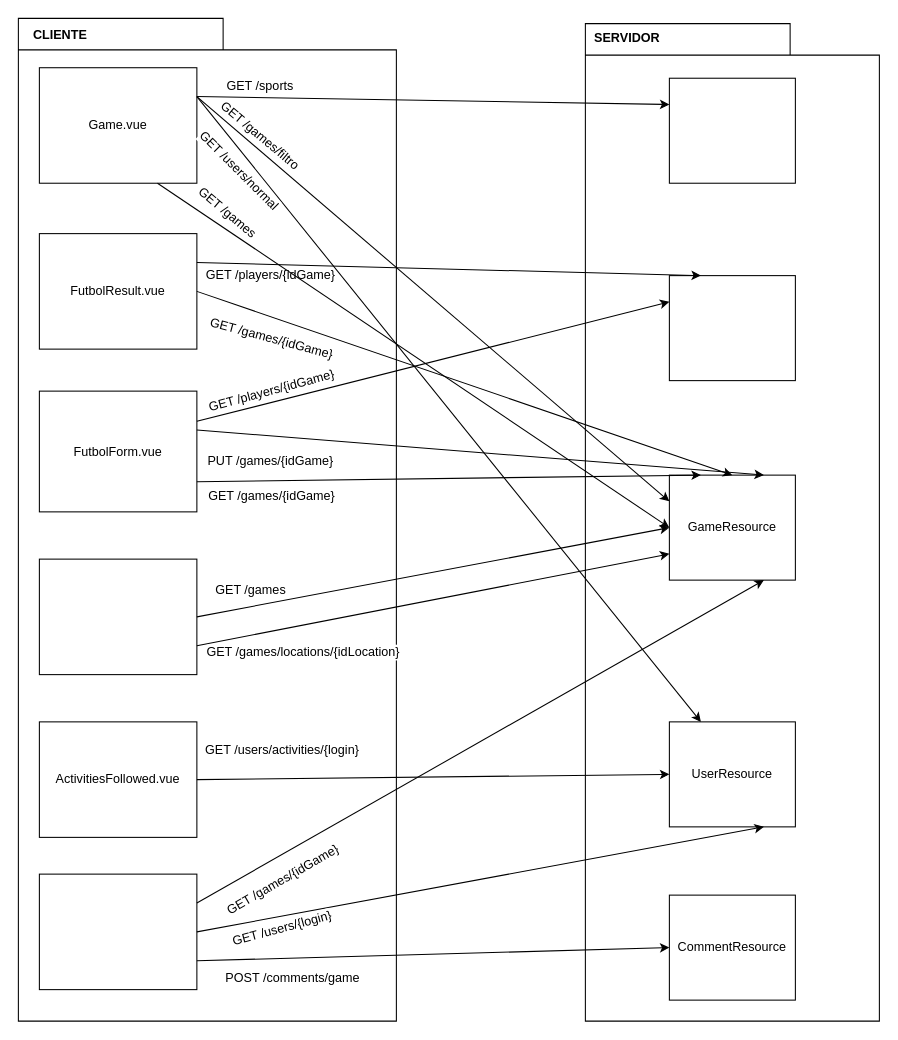
This 898x1040 diagram has some shape labels left out. The shapes that lost their labels are listed below. From the top down, each one's centre as x and y in pixels, then its label:
(x=731, y=130): SportResource
(x=731, y=328): PlayerResource
(x=117, y=616): Calendar.vue
(x=117, y=931): CommentGamevue
